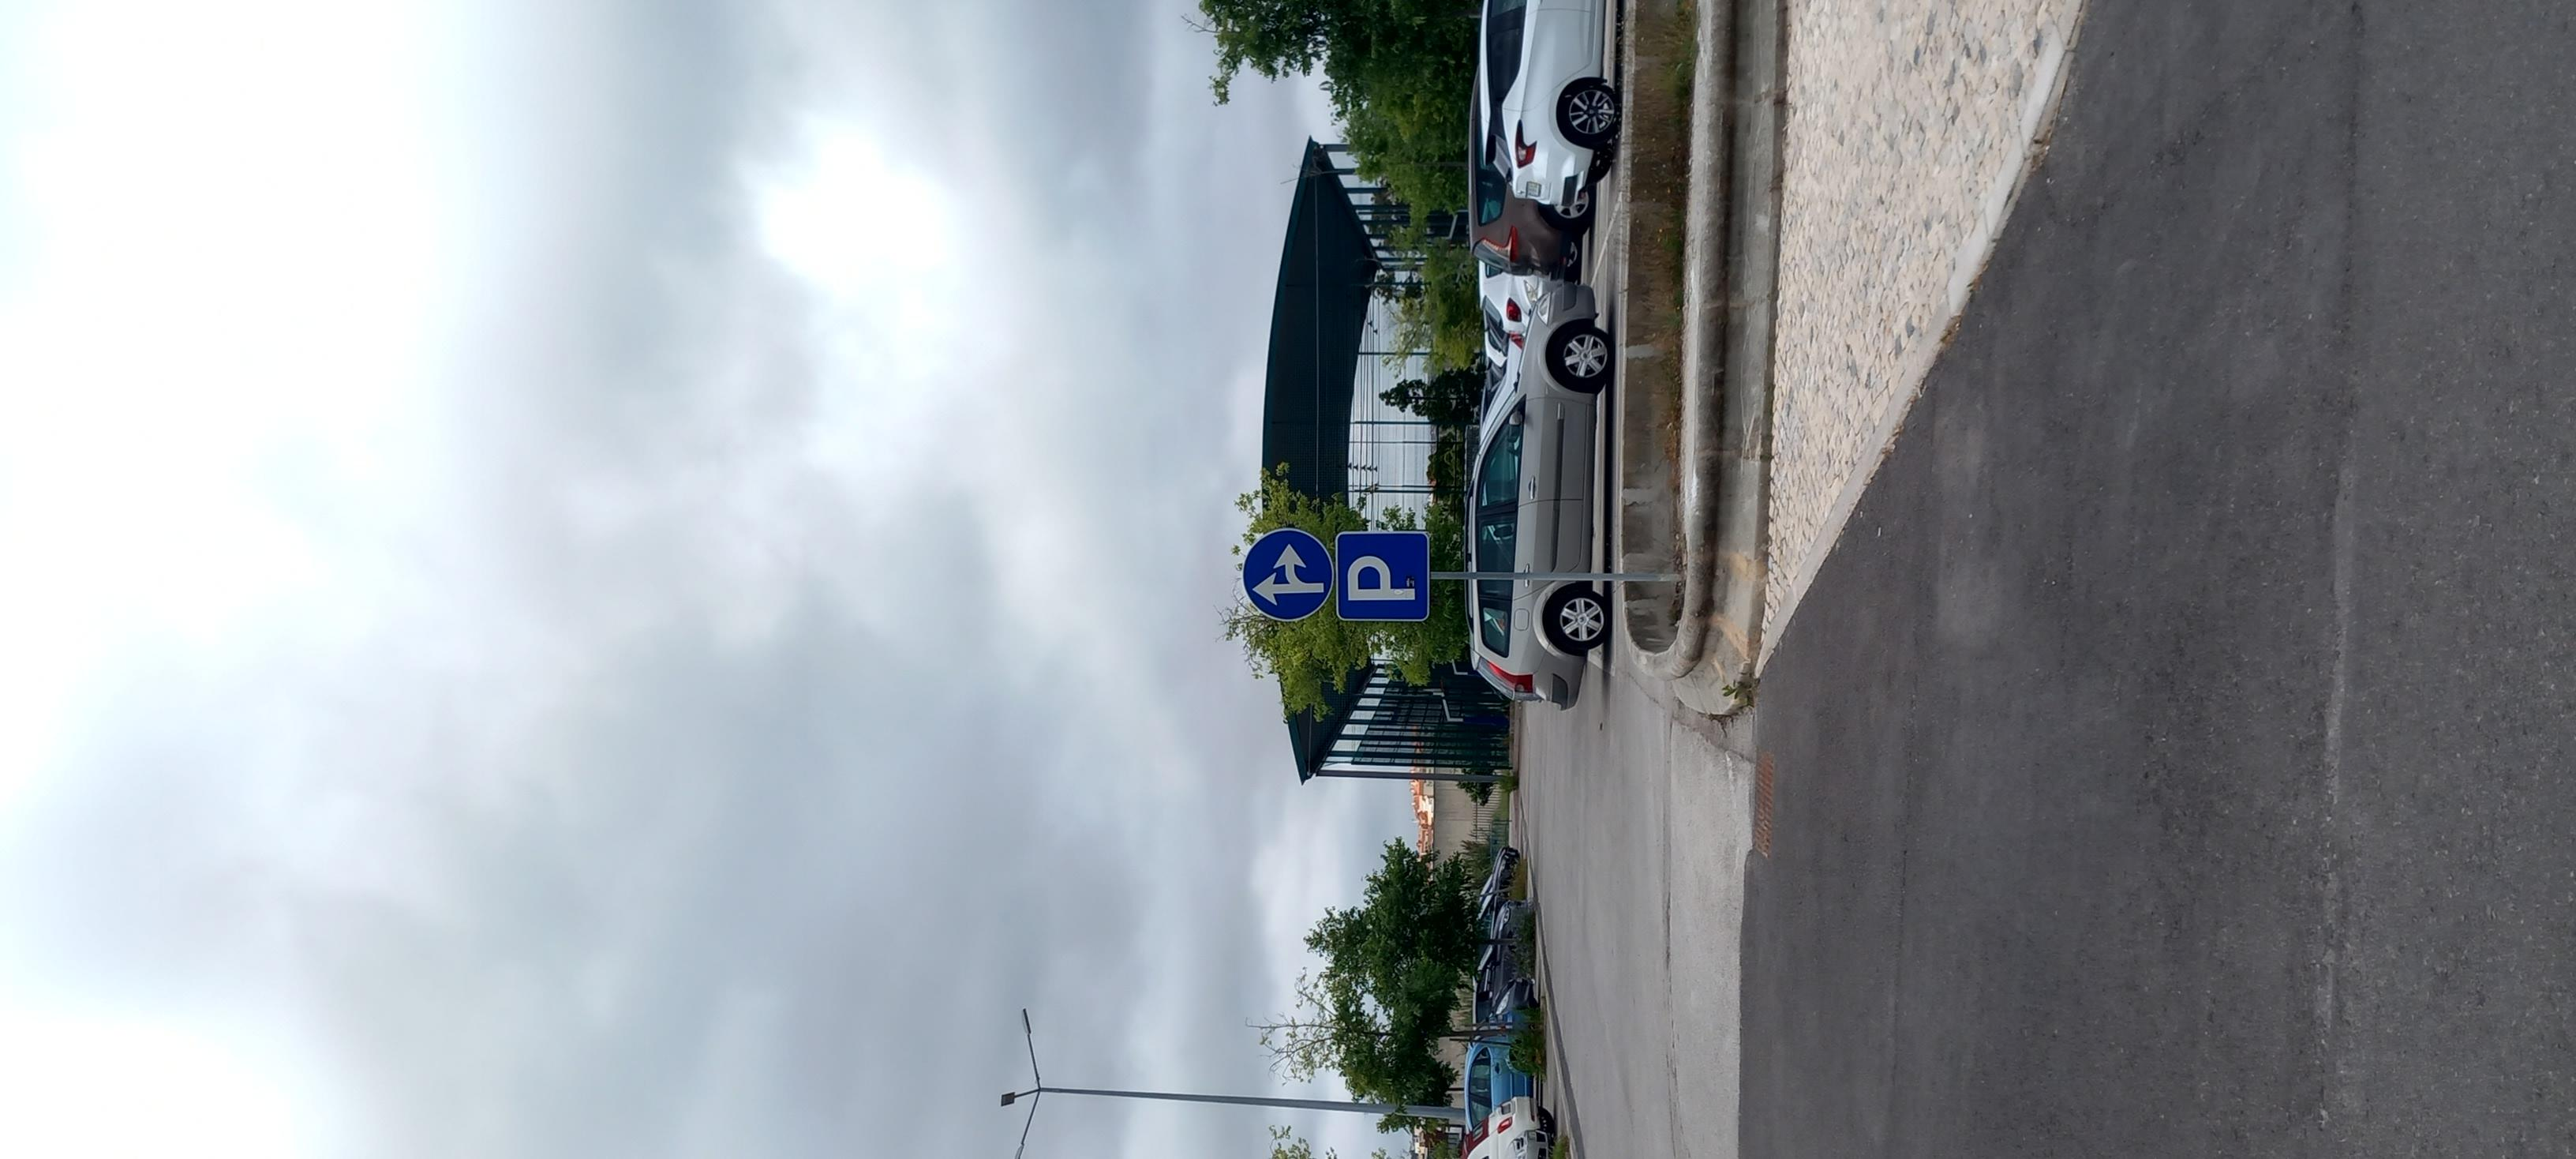Estacionamento autorizado: (1193, 607, 1387, 644)
sentidos obrigatorios possiveis: (1193, 557, 1395, 605)
